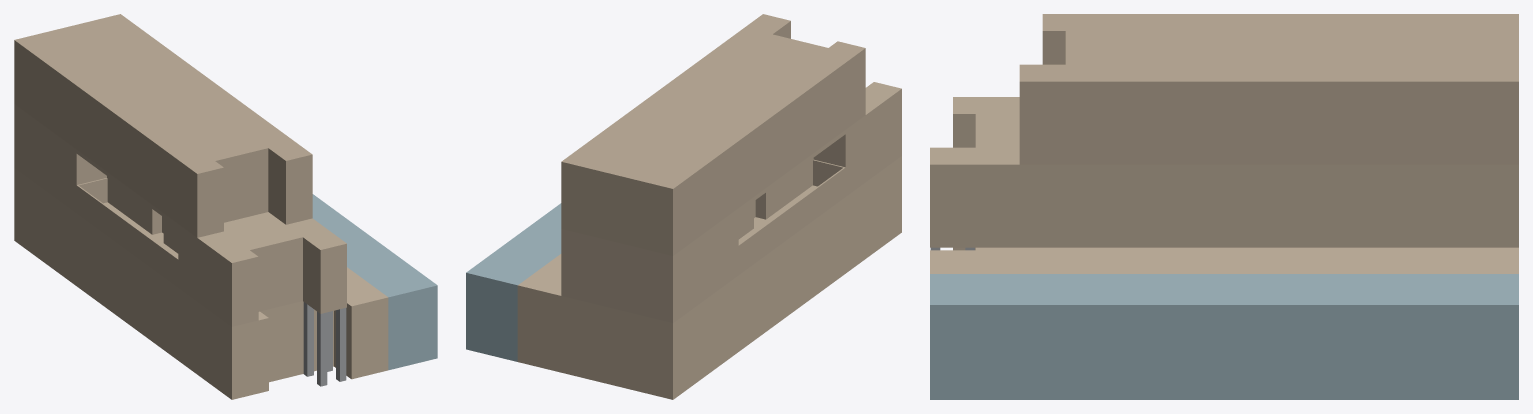
File: massing.glb
The picture shows the model from 3 angles, left to right: view 1: azimuth 30°, elevation 25°; view 2: azimuth 150°, elevation 25°; view 3: azimuth 270°, elevation 25°; orthographic projection. The views are drawn at different scales.
Visible parts, largest first — view 1: main/floor3/0/0, main/floor1/0/0, main/floor2/1/0, wing/floor1/0/0, main/floor2/2/0, main/floor2/4/0, main/floor2/0/0, main/floor2/3/0, main/floor2/support/column2/0, main/floor2/support/column3/0, main/floor2/support/column0/0; view 2: main/floor3/0/0, main/floor1/0/0, main/floor2/1/0, wing/floor1/0/0, main/floor2/2/0, main/floor2/4/0, main/floor2/0/0, main/floor2/3/0; view 3: main/floor3/0/0, wing/floor1/0/0, main/floor2/1/0, main/floor2/2/0, main/floor1/0/0, main/floor2/4/0, main/floor2/3/0, main/floor2/0/0.
Part boxes in pixels (x1=…): main/floor3/0/0: x1=14, y1=14, x2=312, y2=237; main/floor1/0/0: x1=14, y1=168, x2=388, y2=399; main/floor2/1/0: x1=14, y1=140, x2=346, y2=322; wing/floor1/0/0: x1=312, y1=194, x2=437, y2=370; main/floor2/2/0: x1=14, y1=116, x2=346, y2=298; main/floor2/4/0: x1=14, y1=104, x2=346, y2=266; main/floor2/0/0: x1=14, y1=164, x2=346, y2=326; main/floor2/3/0: x1=14, y1=108, x2=346, y2=274; main/floor2/support/column2/0: x1=317, y1=311, x2=327, y2=386; main/floor2/support/column3/0: x1=336, y1=308, x2=346, y2=381; main/floor2/support/column0/0: x1=303, y1=302, x2=313, y2=376; main/floor3/0/0: x1=561, y1=14, x2=865, y2=255; main/floor1/0/0: x1=517, y1=156, x2=901, y2=399; main/floor2/1/0: x1=561, y1=126, x2=901, y2=318; wing/floor1/0/0: x1=466, y1=203, x2=561, y2=361; main/floor2/2/0: x1=561, y1=101, x2=901, y2=293; main/floor2/4/0: x1=561, y1=82, x2=901, y2=260; main/floor2/0/0: x1=561, y1=151, x2=901, y2=322; main/floor2/3/0: x1=561, y1=93, x2=901, y2=268; main/floor3/0/0: x1=1019, y1=14, x2=1518, y2=164; wing/floor1/0/0: x1=930, y1=274, x2=1518, y2=399; main/floor2/1/0: x1=930, y1=211, x2=1518, y2=242; main/floor2/2/0: x1=930, y1=129, x2=1518, y2=210; main/floor1/0/0: x1=930, y1=247, x2=1518, y2=273; main/floor2/4/0: x1=930, y1=97, x2=1518, y2=169; main/floor2/3/0: x1=930, y1=119, x2=1518, y2=179; main/floor2/0/0: x1=930, y1=242, x2=1518, y2=247.
Size of the model in its own units: 9.04 by 8.8 by 18.
